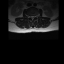CCS_normal: (32, 14, 33, 21)
LFS_normal: (34, 14, 36, 18)
LLS_normal: (33, 14, 34, 19)
RFS_normal: (28, 14, 30, 19)
RLS_normal: (30, 14, 32, 19)
